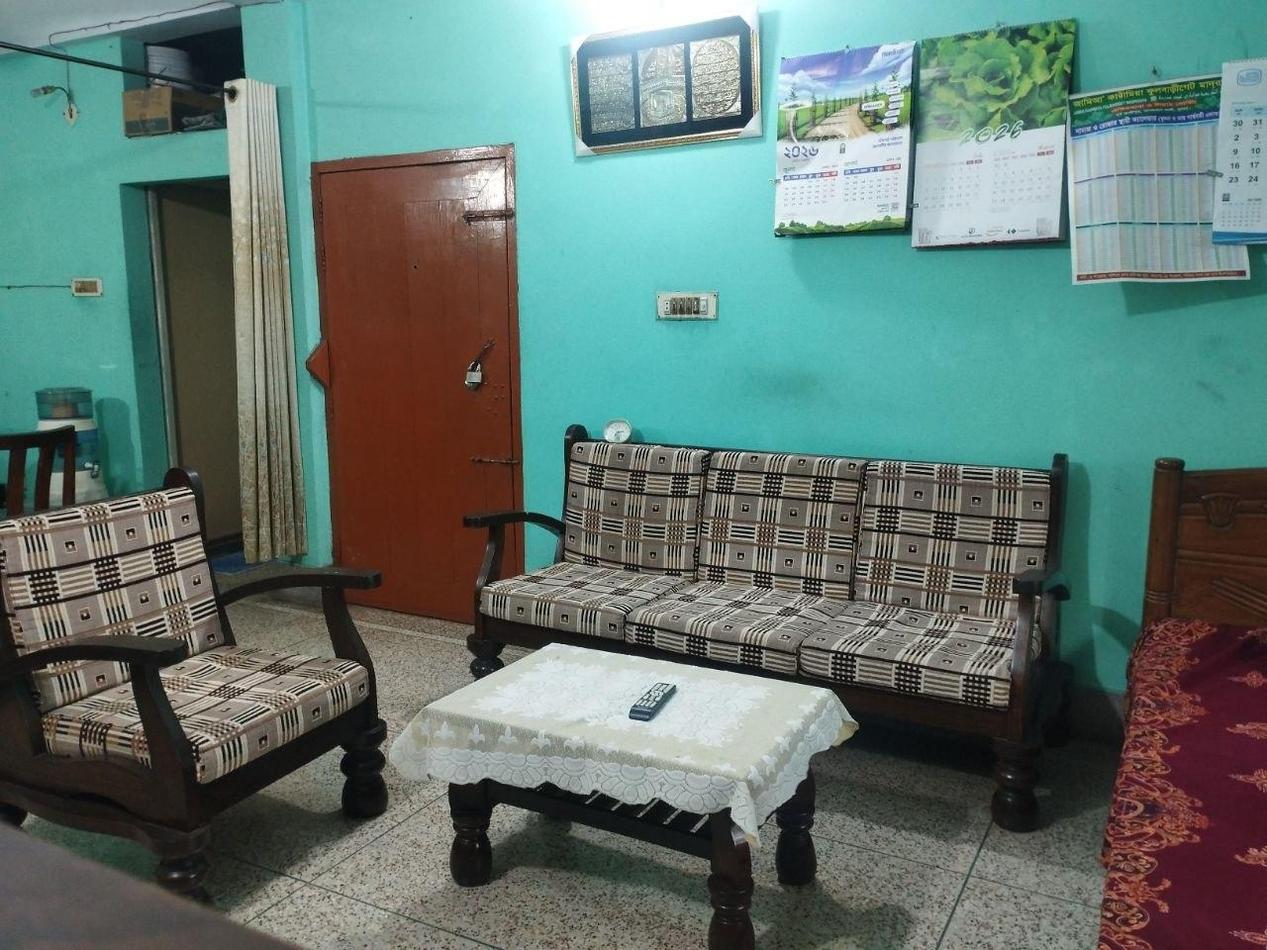Lock: (317, 143, 529, 599), (458, 339, 502, 385)
Photo: (563, 14, 785, 141), (920, 24, 1124, 123), (793, 34, 944, 125)
Remote: (619, 660, 684, 738)
Table: (420, 587, 868, 950)
